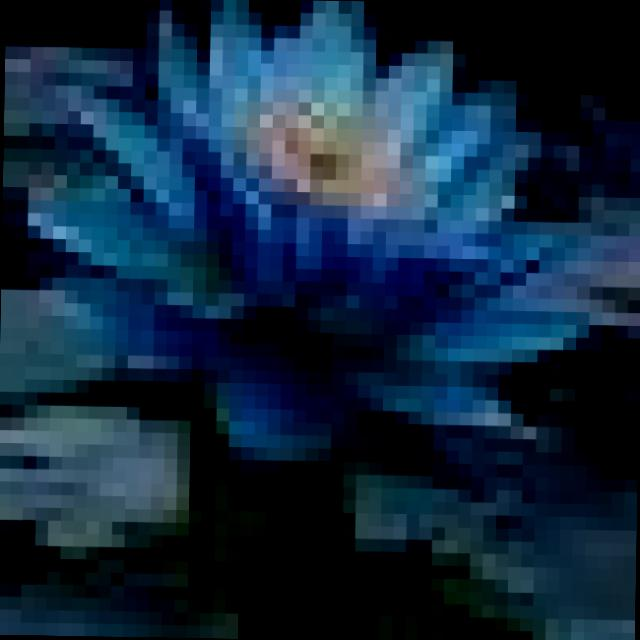lotus: (0, 0, 636, 568)
